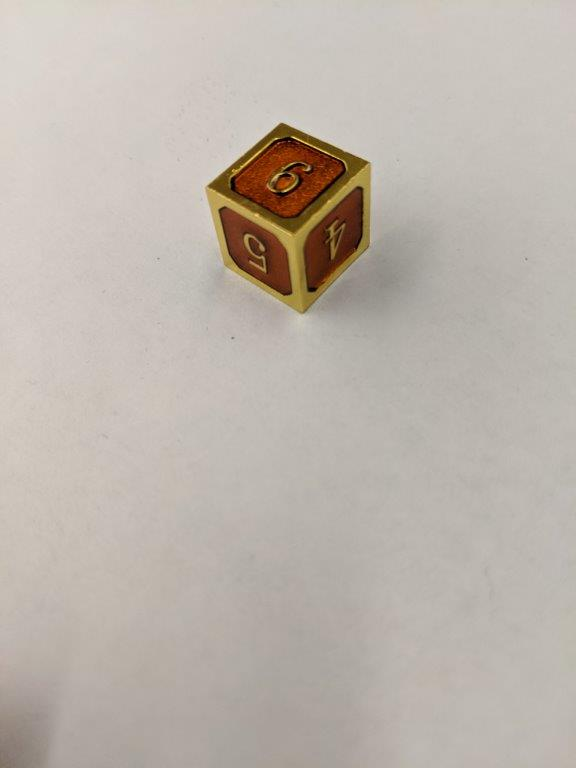d6-6: (202, 121, 374, 314)
